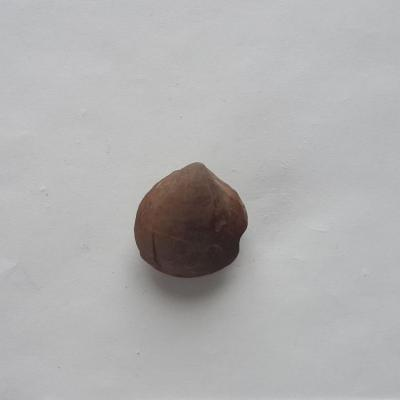natural_science_collection: (134, 160, 249, 280)
